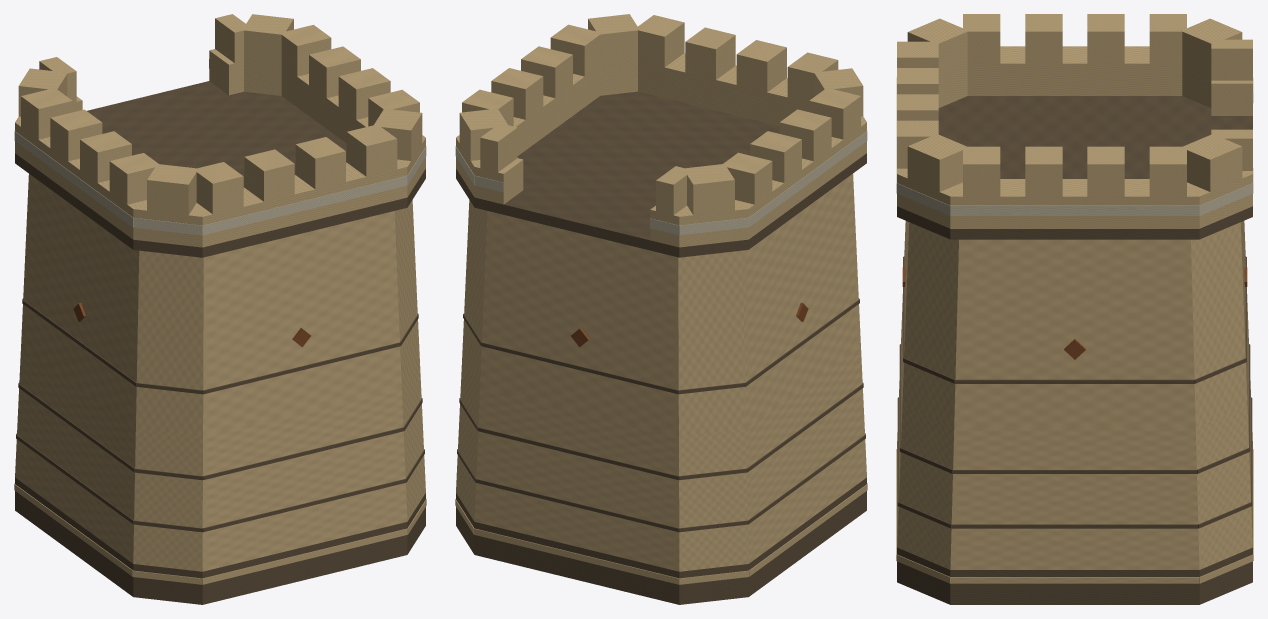
File: Berber_Bastion_Age4_end.fbx
3 views of the same model, side by side, from view 1: azimuth 30°, elevation 25°; view 2: azimuth 150°, elevation 25°; view 3: azimuth 270°, elevation 25° (orthographic). The views are drawn at different scales.
Parts seen in each view (by area): view 1: end_battered_upper, end_battered_lower, end_continuous_walk_floor, end_stone_foot, end_guard_0_0, end_guard_6_0, end_guard_2_0, end_owner_band_0_0, end_guard_7_0, end_merlon_0_0_1, end_merlon_0_0_3, end_merlon_0_0_2 (+40 smaller); view 2: end_battered_upper, end_battered_lower, end_continuous_walk_floor, end_stone_foot, end_guard_0_0, end_guard_6_0, end_guard_2_0, end_guard_5_0, end_merlon_0_0_2, end_merlon_0_0_1, end_foundation_bond_4, end_merlon_0_0_3 (+41 smaller); view 3: end_battered_upper, end_battered_lower, end_continuous_walk_floor, end_stone_foot, end_guard_6_0, end_guard_2_0, end_owner_band_2_0, end_merlon_3_0_0, end_merlon_1_0_0, end_foundation_bond_2, end_guard_4_1, end_guard_1_0 (+36 smaller).
Boxes of the visible parts, bbox=[...] form: end_battered_upper: bbox=[21, 174, 419, 436]; end_battered_lower: bbox=[15, 345, 425, 571]; end_continuous_walk_floor: bbox=[15, 81, 425, 257]; end_stone_foot: bbox=[15, 477, 425, 604]; end_guard_0_0: bbox=[192, 160, 407, 247]; end_guard_6_0: bbox=[15, 122, 146, 239]; end_guard_2_0: bbox=[281, 65, 425, 143]; end_owner_band_0_0: bbox=[202, 175, 407, 235]; end_guard_7_0: bbox=[133, 200, 206, 247]; end_merlon_0_0_1: bbox=[244, 159, 294, 201]; end_merlon_0_0_3: bbox=[346, 132, 397, 176]; end_merlon_0_0_2: bbox=[295, 145, 345, 189]; end_battered_upper: bbox=[462, 174, 860, 436]; end_battered_lower: bbox=[456, 345, 866, 571]; end_continuous_walk_floor: bbox=[456, 91, 866, 257]; end_stone_foot: bbox=[456, 477, 866, 604]; end_guard_0_0: bbox=[638, 53, 809, 125]; end_guard_6_0: bbox=[735, 121, 866, 239]; end_guard_2_0: bbox=[456, 65, 600, 155]; end_guard_5_0: bbox=[679, 200, 748, 247]; end_merlon_0_0_2: bbox=[685, 35, 735, 79]; end_merlon_0_0_1: bbox=[736, 48, 786, 92]; end_foundation_bond_4: bbox=[474, 528, 679, 584]; end_merlon_0_0_3: bbox=[638, 23, 684, 67]; end_battered_upper: bbox=[902, 221, 1247, 427]; end_battered_lower: bbox=[897, 312, 1252, 569]; end_continuous_walk_floor: bbox=[897, 96, 1252, 239]; end_stone_foot: bbox=[897, 547, 1252, 604]; end_guard_6_0: bbox=[967, 46, 1182, 95]; end_guard_2_0: bbox=[950, 179, 1199, 228]; end_owner_band_2_0: bbox=[950, 205, 1199, 215]; end_merlon_3_0_0: bbox=[1187, 147, 1242, 191]; end_merlon_1_0_0: bbox=[907, 148, 962, 191]; end_foundation_bond_2: bbox=[950, 577, 1199, 583]; end_guard_4_1: bbox=[1211, 80, 1252, 115]; end_guard_1_0: bbox=[897, 170, 962, 228].
Bounding box in the file's own units: 603 × 820 × 603.
4 materials, 4 textured.
